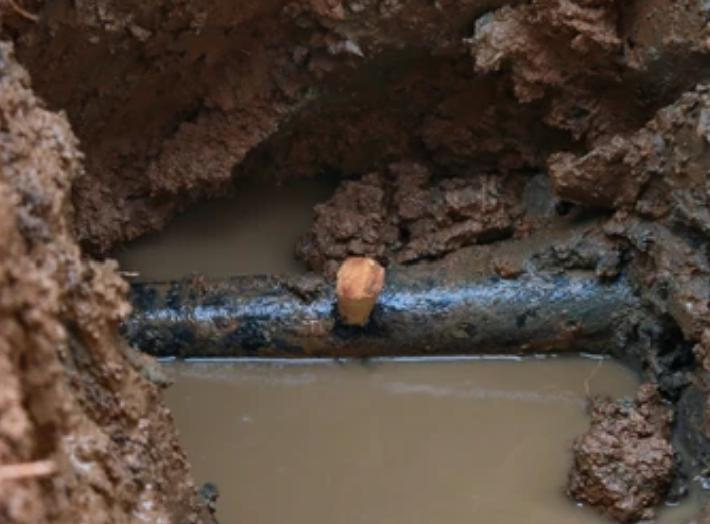water accumulation: (111, 180, 710, 524)
